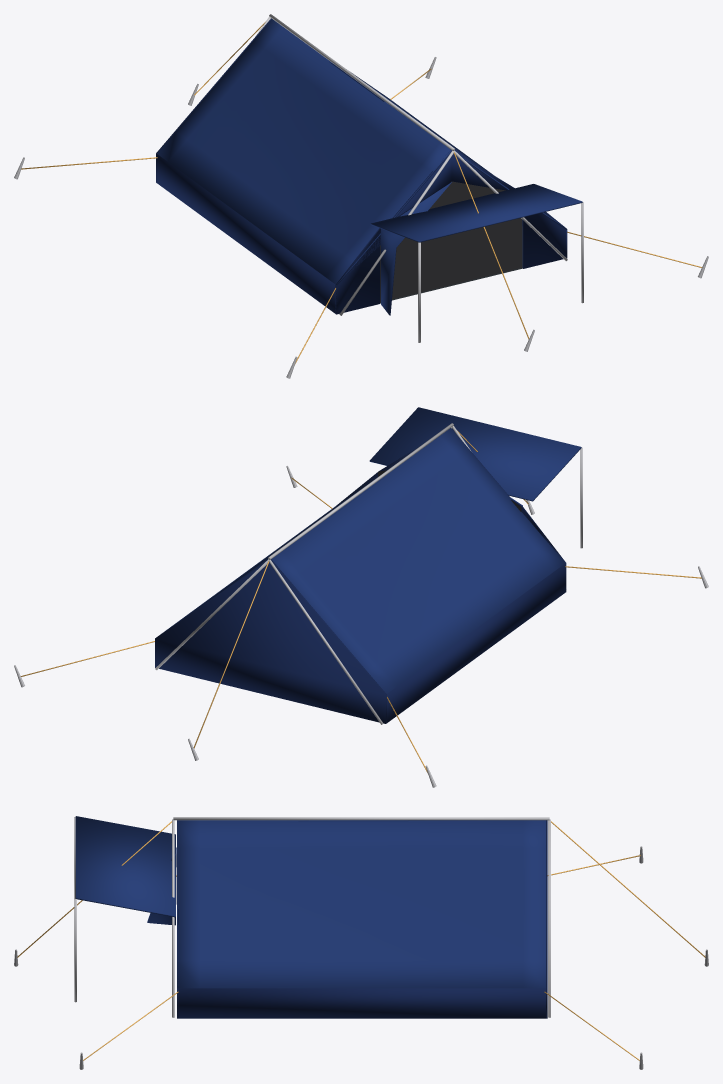
File: zelt.glb
3 views of the same model, one above another, from view 1: azimuth 30°, elevation 25°; view 2: azimuth 150°, elevation 25°; view 3: azimuth 270°, elevation 25° (orthographic). The views are drawn at different scales.
Visible parts, largest first — view 1: DachL, Oeffnung, FrontRahmen, WandL, Vordach, Tuerklappe, Firststange, DachR; view 2: DachL, Rueckwand, Vordach, WandL, Firststange, DachR, FrontRahmen, Stange.002; view 3: DachR, WandR, Vordach, Firststange, Stange.003, Stange.001.
Boxes of the visible parts, left/top/right/bottom form: DachL: left=157, top=19, right=451, bottom=285; Oeffnung: left=380, top=181, right=522, bottom=301; FrontRahmen: left=335, top=151, right=567, bottom=314; WandL: left=156, top=154, right=336, bottom=313; Vordach: left=370, top=184, right=582, bottom=242; Tuerklappe: left=381, top=182, right=451, bottom=315; Firststange: left=269, top=14, right=454, bottom=150; DachR: left=330, top=62, right=566, bottom=229; DachL: left=271, top=428, right=565, bottom=693; Rueckwand: left=155, top=559, right=386, bottom=723; Vordach: left=369, top=407, right=581, bottom=501; WandL: left=386, top=563, right=566, bottom=722; Firststange: left=268, top=423, right=453, bottom=559; DachR: left=160, top=477, right=384, bottom=634; FrontRahmen: left=336, top=428, right=566, bottom=591; Stange.002: left=269, top=559, right=383, bottom=724; DachR: left=177, top=820, right=545, bottom=988; WandR: left=177, top=988, right=545, bottom=1018; Vordach: left=75, top=816, right=175, bottom=917; Firststange: left=173, top=817, right=549, bottom=820; Stange.003: left=548, top=820, right=550, bottom=1017; Stange.001: left=172, top=820, right=174, bottom=1017.
Size of the model in its own units: 4.21 by 1.4 by 5.84.
